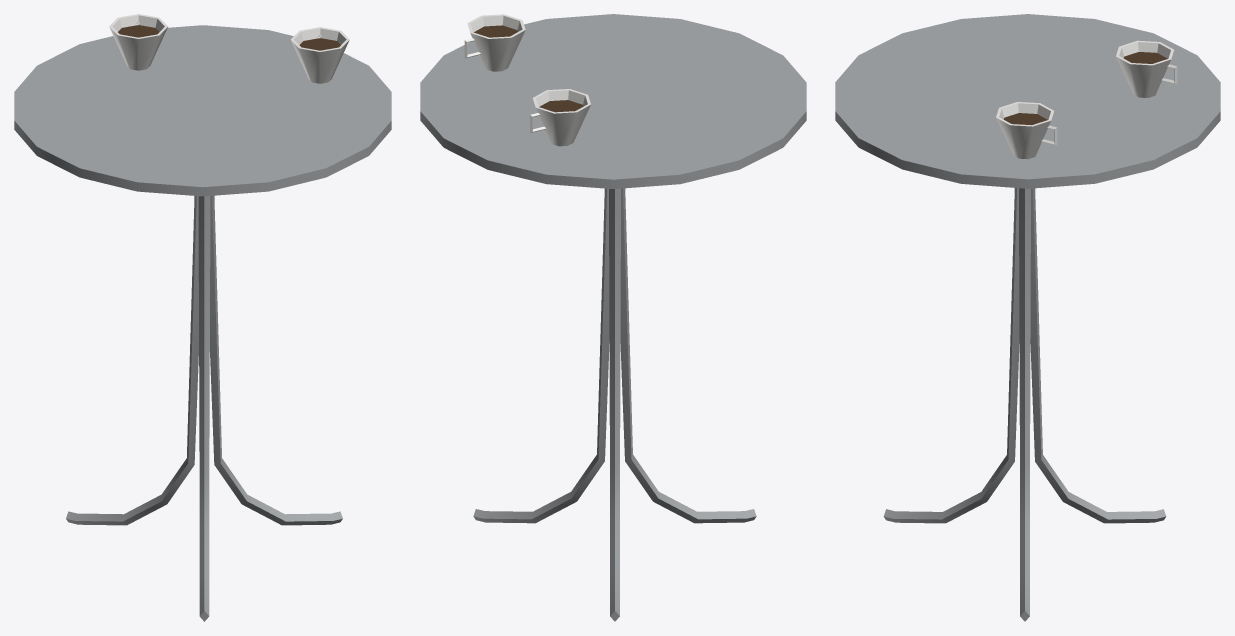
File: SM_table_cafe_full_02.fbx
3 renders of one model, left to right at view 1: azimuth 30°, elevation 25°; view 2: azimuth 150°, elevation 25°; view 3: azimuth 270°, elevation 25°, orthographic. The views are drawn at different scales.
Visible parts, largest first — view 1: Line059; view 2: Line059; view 3: Line059.
Part boxes in pixels (box(x1,y1,x2,y2)): Line059: box(14, 14, 391, 621); Line059: box(420, 14, 806, 621); Line059: box(835, 14, 1220, 621).
Bounding box in the file's own units: 29.27 × 28.83 × 41.08.
